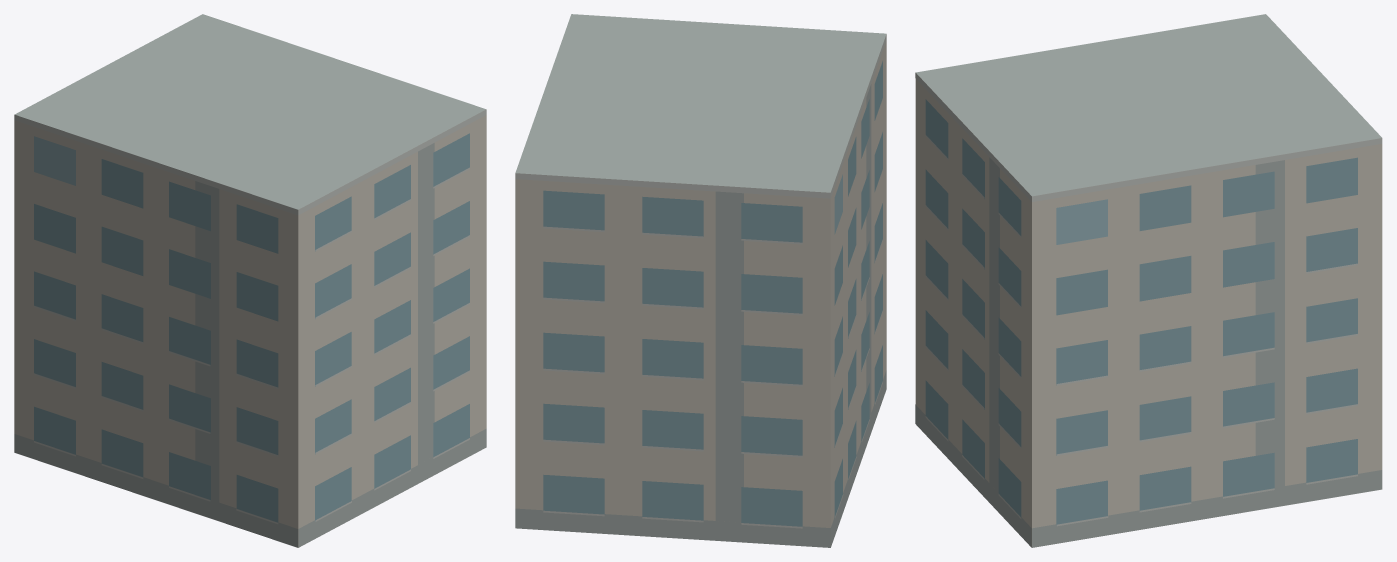
The model's file is survey-upis-32849373.glb.
The picture shows the model from 3 angles, left to right: view 1: azimuth 30°, elevation 25°; view 2: azimuth 150°, elevation 25°; view 3: azimuth 270°, elevation 25°; orthographic projection. The views are drawn at different scales.
Parts seen in each view (by area): view 1: survey-upis-32849373.tmp; view 2: survey-upis-32849373.tmp; view 3: survey-upis-32849373.tmp.
Boxes of the visible parts, box(x1,y1,x2,y2) form: survey-upis-32849373.tmp: box(14, 14, 486, 547); survey-upis-32849373.tmp: box(515, 14, 886, 547); survey-upis-32849373.tmp: box(915, 14, 1382, 547).
Bounding box in the file's own units: 16.31 × 14.65 × 17.64.
